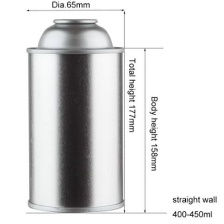aerosol_cans: (23, 13, 128, 216)
